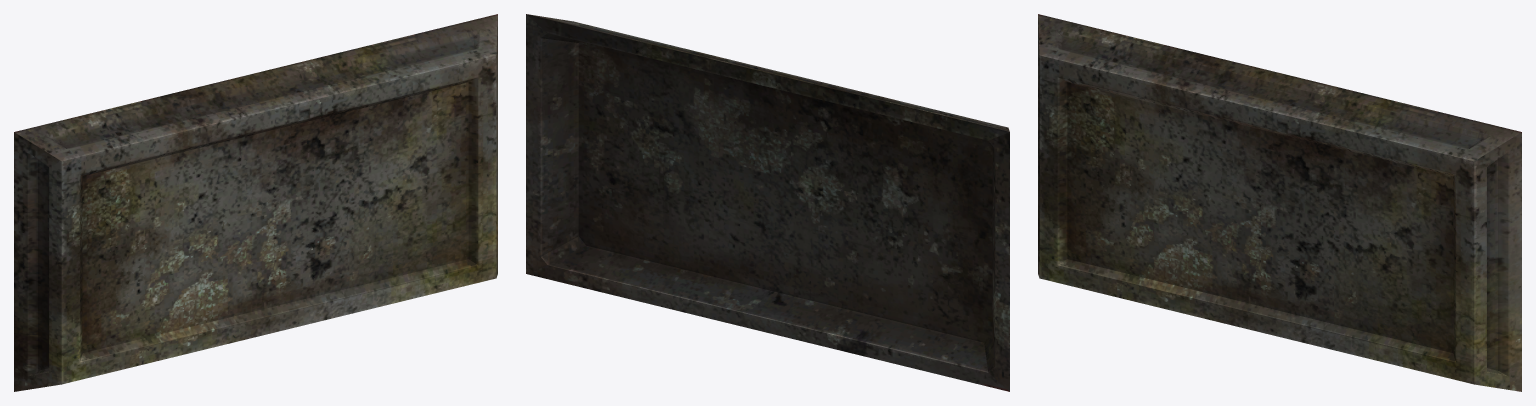
The model's file is crate_flesher_small_lid.DAE.
3 renders of one model, left to right at view 1: azimuth 30°, elevation 25°; view 2: azimuth 150°, elevation 25°; view 3: azimuth 330°, elevation 25°, orthographic.
Parts seen in each view (by area): view 1: crate_flesher_small_lid; view 2: crate_flesher_small_lid; view 3: crate_flesher_small_lid.
Boxes of the visible parts, x1=… form: crate_flesher_small_lid: x1=14, y1=14, x2=497, y2=391; crate_flesher_small_lid: x1=526, y1=14, x2=1009, y2=391; crate_flesher_small_lid: x1=1038, y1=14, x2=1521, y2=391.
Size of the model in its own units: 68.25 by 5.65 by 35.03.
